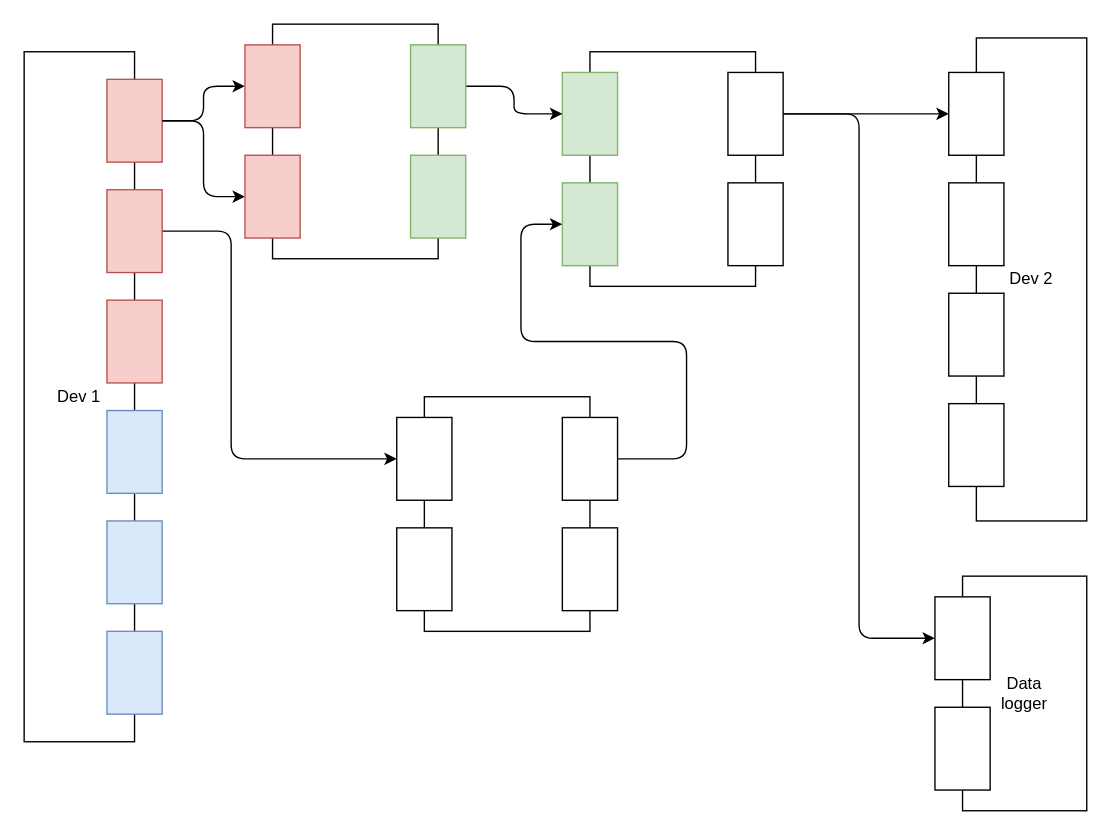
Image size: 1111x835. Some labels were removed from this diagram. Each missing label, with the centre of its shape:
"Kanal 1" goes at point 134,120.
"Kanal 2" goes at point 134,230.
